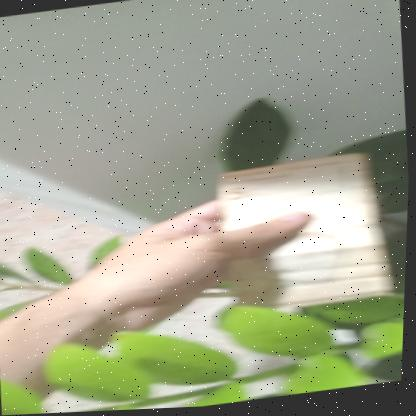five-front-vef: (213, 151, 400, 321)
